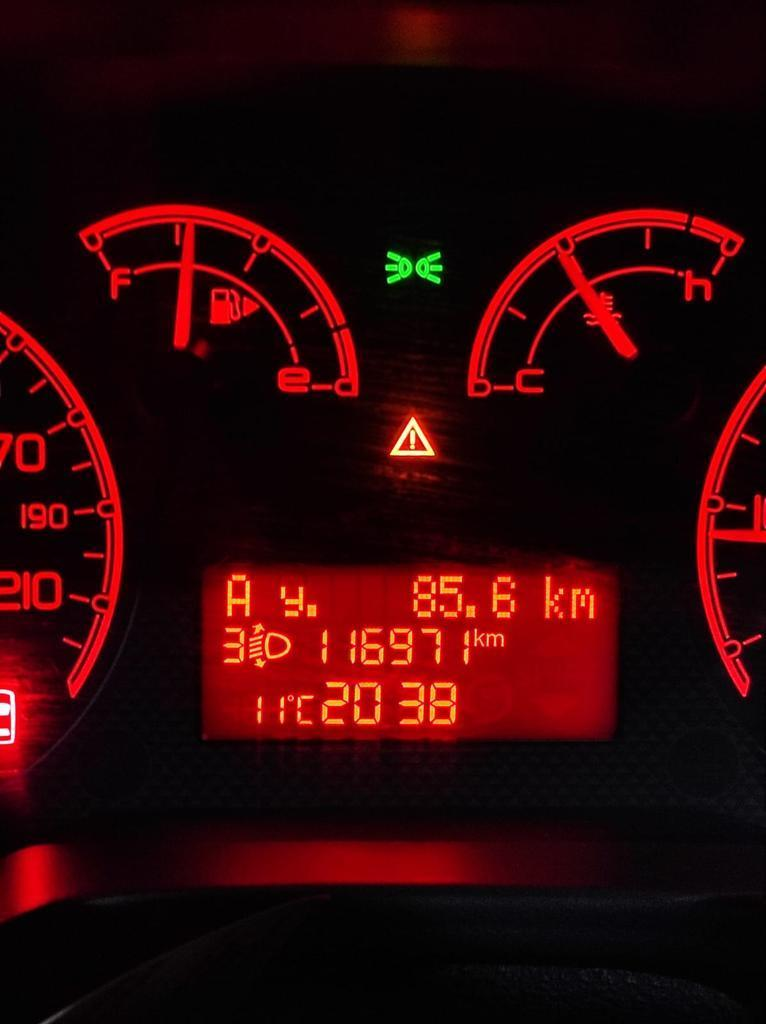-: (303, 602, 318, 619), (465, 602, 477, 620)
0: (350, 679, 383, 726)
1: (315, 624, 334, 666), (457, 627, 472, 667), (249, 692, 267, 725), (344, 625, 358, 665), (273, 693, 284, 725)
2: (318, 677, 347, 726)
3: (394, 678, 424, 726), (218, 622, 246, 666)
5: (437, 572, 465, 620)
6: (489, 572, 518, 621), (359, 624, 384, 666)
7: (417, 624, 444, 665)
8: (426, 679, 459, 726), (409, 573, 437, 619)
9: (386, 624, 413, 667)
X: (224, 572, 252, 618), (540, 572, 565, 621), (567, 585, 599, 620), (275, 582, 304, 618), (295, 692, 314, 726), (485, 631, 504, 647), (471, 624, 484, 647)
odometer: (192, 554, 629, 748)
